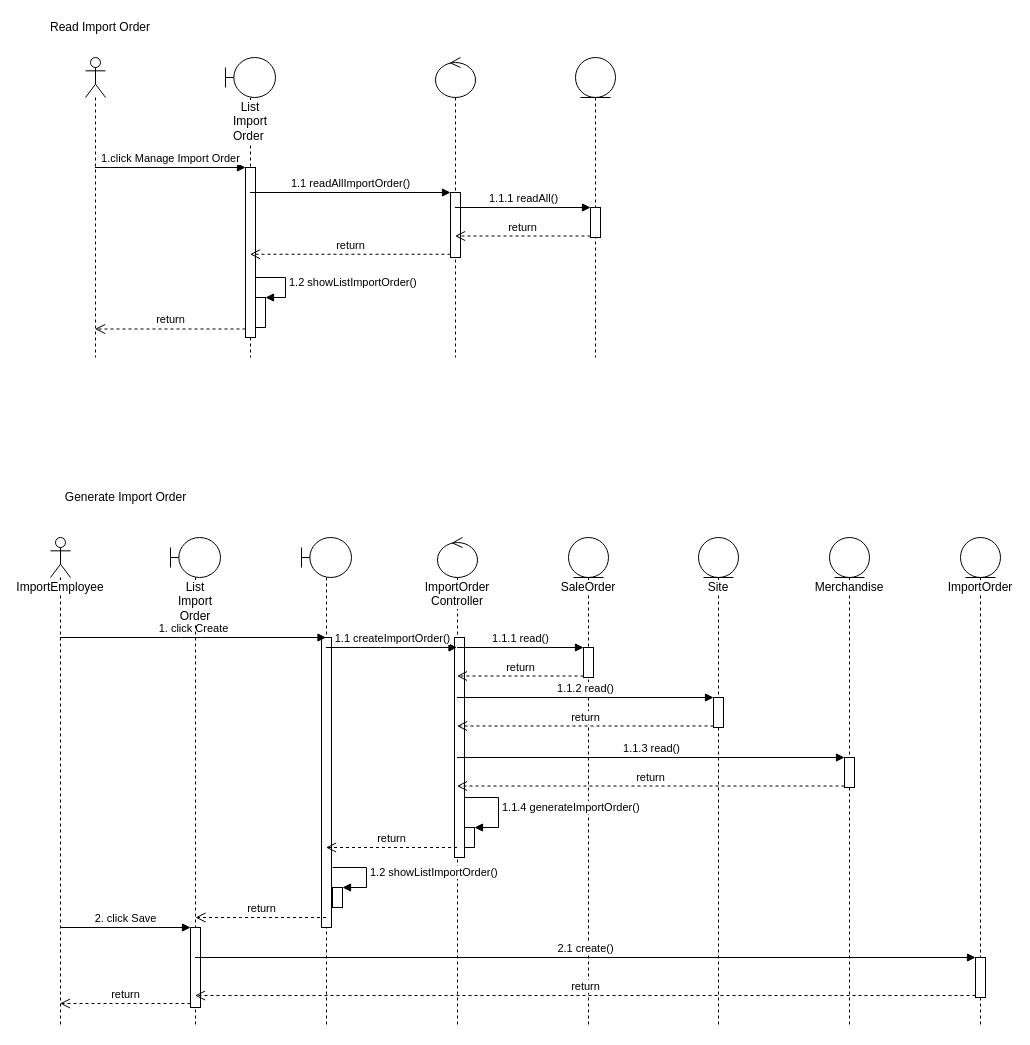
This 1030x1045 diagram has some shape labels left out. The shapes that lost their labels are listed below. From the top down, each one's box as (x1, y1, x2, y2) in pixels, then its label:
(84, 56, 106, 358): Import Order Employee
(434, 56, 476, 358): Import Order Controller
(574, 56, 616, 358): Import Order
(300, 536, 352, 1028): List Sale Order
